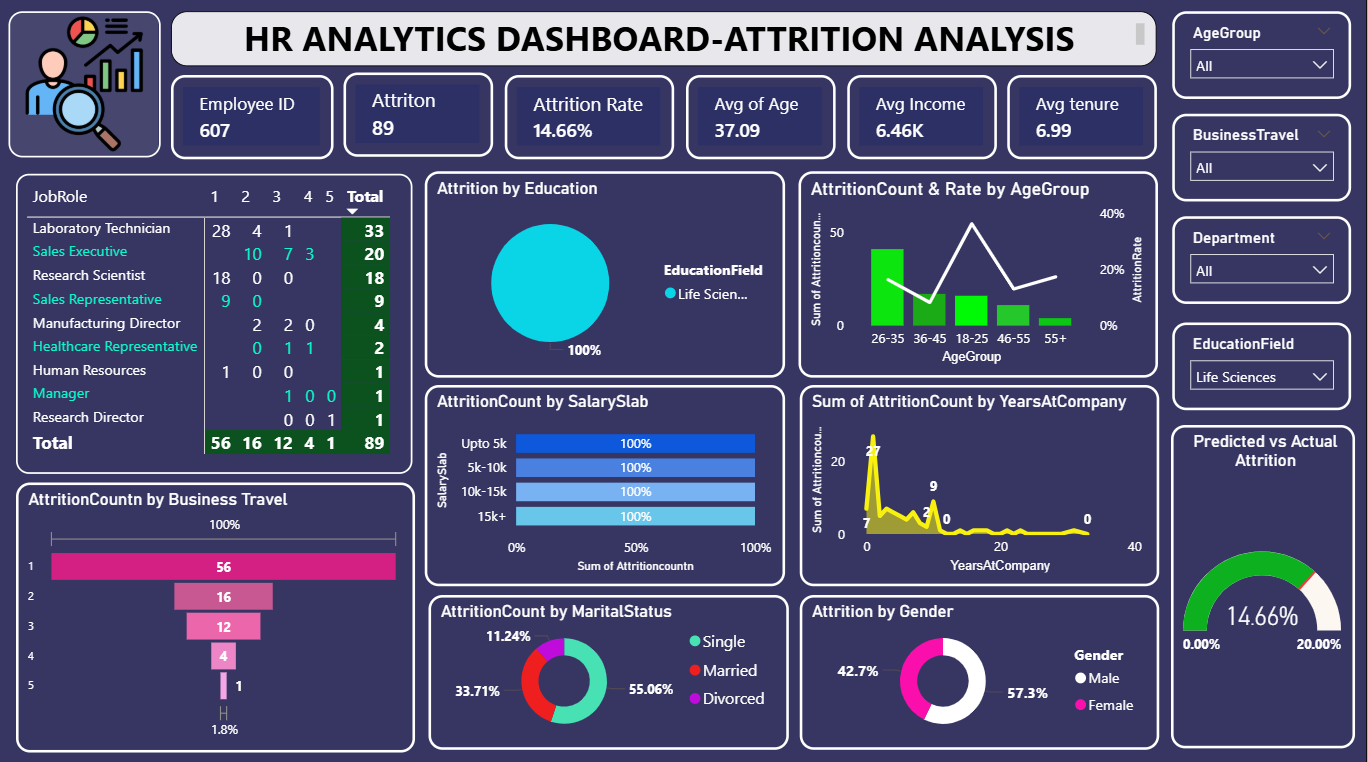

What the dashboard file says about the page in this screenshot:
{"tool":"powerbi","page":{"name":"Page 1","canvas":[1280,720],"ordinal":0},"visuals":[{"type":"textbox","box":[168,15.1,917.1,51.5],"z":0},{"type":"cardVisual","title":"COUNT OF EMPLOYEE","fields":{"Data":["CountNonNull(HR_Analytics.EmpID)"]},"box":[168,74.2,151.3,78.7],"z":1000},{"type":"cardVisual","title":"COUNT OF EMPLOYEE","fields":{"Data":["Sum(HR_Analytics.Attritioncountn)"]},"box":[328.4,72.6,139.2,78.7],"z":2000},{"type":"cardVisual","title":"COUNT OF EMPLOYEE","fields":{"Data":["HR_Analytics.AttritionRate"]},"box":[478.2,74.2,157.4,78.7],"z":3000},{"type":"cardVisual","title":"COUNT OF EMPLOYEE","fields":{"Data":["Avg(HR_Analytics.Age)"]},"box":[646.2,74.2,139.2,78.7],"z":4000},{"type":"cardVisual","title":"COUNT OF EMPLOYEE","fields":{"Data":["Avg(HR_Analytics.MonthlyIncome)"]},"box":[796,74.2,139.2,78.7],"z":5000},{"type":"cardVisual","title":"COUNT OF EMPLOYEE","fields":{"Data":["Avg(HR_Analytics.YearsAtCompany)"]},"box":[945.9,74.2,139.2,78.7],"z":6000},{"type":"donutChart","title":"Attrition by Gender","fields":{"Category":["HR_Analytics.Gender"],"Y":["Sum(HR_Analytics.Attritioncountn)"]},"box":[752.1,558.4,334,144],"z":7000},{"type":"pieChart","title":"Attrition by Education","fields":{"Category":["HR_Analytics.EducationField","HR_Analytics.YearsAtCompany"],"Y":["Sum(HR_Analytics.Attritioncountn)"]},"box":[404.1,163.4,335,192],"z":8000},{"type":"lineClusteredColumnComboChart","title":"AttritionCount & Rate by  AgeGroup","fields":{"Category":["HR_Analytics.AgeGroup"],"Y":["Sum(HR_Analytics.Attritioncountn)"],"Y2":["HR_Analytics.AttritionRate"]},"box":[750.6,163.4,334,192],"z":9000},{"type":"pivotTable","fields":{"Rows":["HR_Analytics.JobRole"],"Values":["Sum(HR_Analytics.Attritioncountn)"],"Columns":["HR_Analytics.JobLevel"]},"box":[22.7,163.4,369,280],"z":10000},{"type":"hundredPercentStackedBarChart","title":"AttritionCount by SalarySlab","fields":{"Category":["HR_Analytics.SalarySlab"],"Y":["Sum(HR_Analytics.Attritioncountn)"]},"box":[404.1,363.2,335,187],"z":11000},{"type":"areaChart","title":"Sum of AttritionCount by YearsAtCompany","fields":{"Category":["HR_Analytics.YearsAtCompany"],"Y":["Sum(HR_Analytics.Attritioncountn)"]},"box":[752.1,363.2,334,187],"z":12000},{"type":"donutChart","title":"AttritionCount by MaritalStatus","fields":{"Category":["HR_Analytics.MaritalStatus"],"Y":["Sum(HR_Analytics.Attritioncountn)"]},"box":[407.1,558.4,335,144],"z":13000},{"type":"funnel","title":"AttritionCountn by Business Travel","fields":{"Category":["HR_Analytics.JobLevel"],"Y":["Sum(HR_Analytics.Attritioncountn)"]},"box":[22.7,454,371,251.2],"z":14000},{"type":"slicer","fields":{"Values":["HR_Analytics.AgeGroup"]},"box":[1098.7,15.1,166.5,81.7],"z":15000},{"type":"slicer","fields":{"Values":["HR_Analytics.BusinessTravel"]},"box":[1098.7,110.5,166.5,81.7],"z":16000},{"type":"slicer","fields":{"Values":["HR_Analytics.Department"]},"box":[1098.7,205.8,166.5,81.7],"z":17000},{"type":"slicer","fields":{"Values":["HR_Analytics.EducationField"]},"box":[1098.7,304.2,166.5,81.7],"z":18000},{"type":"gauge","title":"Predicted vs Actual Attrition","fields":{"Y":["HR_Analytics.Predicted Attrition Rate"],"TargetValue":["HR_Analytics.AttritionRate"]},"box":[1097.2,399.5,171,301.2],"z":19002},{"type":"image","box":[16.4,15.2,141.4,136.4],"z":21504}]}

Visuals, with their boxes in screenshot pixels (x1, y1, x2, y2), scaled from the page's 1280x720 canvas onto the 1368x762 screenshot:
textbox: 180:16:1160:70
"COUNT OF EMPLOYEE" cardVisual: 180:79:341:162
"COUNT OF EMPLOYEE" cardVisual: 351:77:500:160
"COUNT OF EMPLOYEE" cardVisual: 511:79:679:162
"COUNT OF EMPLOYEE" cardVisual: 691:79:839:162
"COUNT OF EMPLOYEE" cardVisual: 851:79:999:162
"COUNT OF EMPLOYEE" cardVisual: 1011:79:1160:162
"Attrition by Gender" donutChart: 804:591:1161:743
"Attrition by Education" pieChart: 432:173:790:376
"AttritionCount & Rate by  AgeGroup" lineClusteredColumnComboChart: 802:173:1159:376
pivotTable - HR_Analytics.JobRole x Sum(HR_Analytics.Attritioncountn): 24:173:419:469
"AttritionCount by SalarySlab" hundredPercentStackedBarChart: 432:384:790:582
"Sum of AttritionCount by YearsAtCompany" areaChart: 804:384:1161:582
"AttritionCount by MaritalStatus" donutChart: 435:591:793:743
"AttritionCountn by Business Travel" funnel: 24:480:421:746
slicer - HR_Analytics.AgeGroup: 1174:16:1352:102
slicer - HR_Analytics.BusinessTravel: 1174:117:1352:203
slicer - HR_Analytics.Department: 1174:218:1352:304
slicer - HR_Analytics.EducationField: 1174:322:1352:408
"Predicted vs Actual Attrition" gauge: 1173:423:1355:742
image: 18:16:169:160
